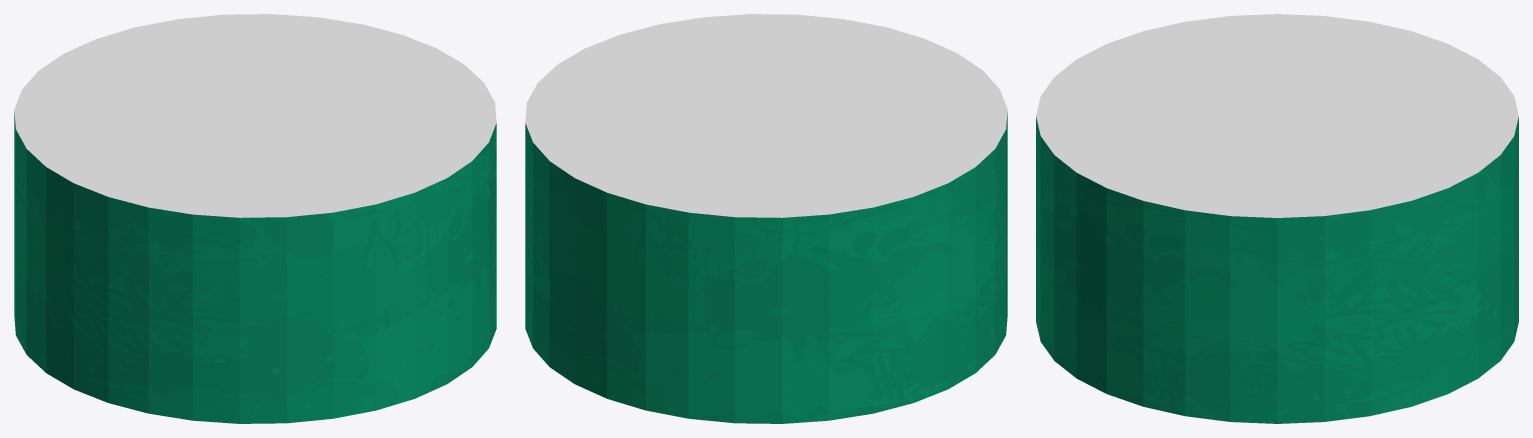
Rendered from CirculoEntregarPizza.fbx.
The picture shows the model from 3 angles, left to right: view 1: azimuth 30°, elevation 25°; view 2: azimuth 150°, elevation 25°; view 3: azimuth 270°, elevation 25°; orthographic projection.
Visible parts, largest first — view 1: EntregarPizza, EntregarPizza.001; view 2: EntregarPizza, EntregarPizza.001; view 3: EntregarPizza, EntregarPizza.001.
Boxes of the visible parts, box(x1,y1,x2,y2) form: EntregarPizza: box(14, 14, 496, 423); EntregarPizza.001: box(14, 14, 496, 423); EntregarPizza: box(525, 14, 1007, 423); EntregarPizza.001: box(525, 14, 1007, 423); EntregarPizza: box(1036, 14, 1518, 423); EntregarPizza.001: box(1036, 14, 1518, 423).
Bounding box in the file's own units: 425 × 200 × 425.
Materials: 4 (2 with a texture image).
